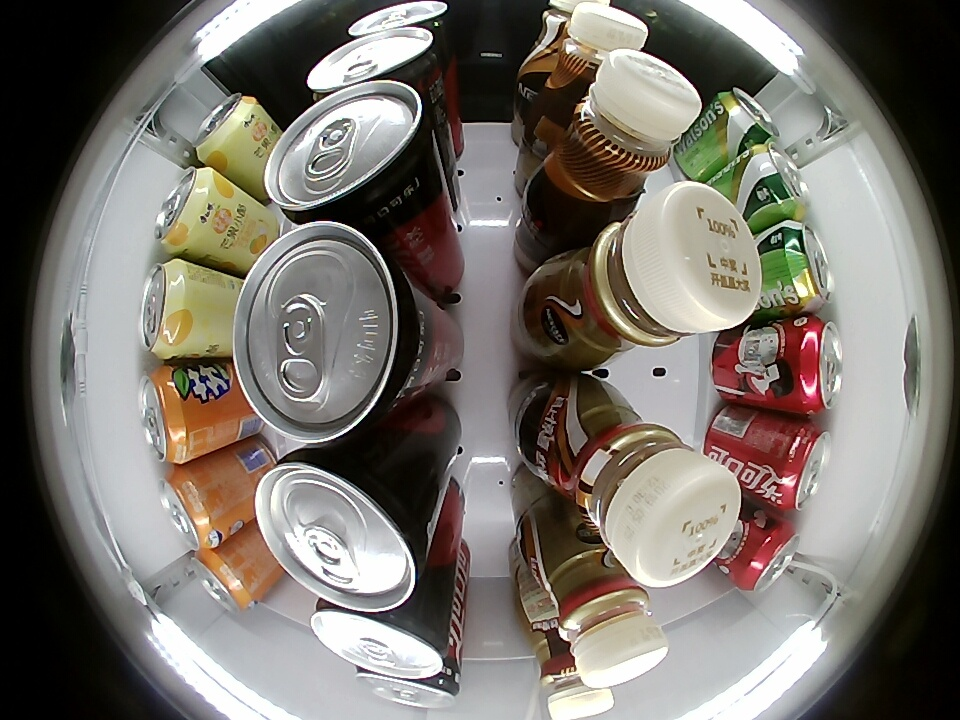fenda: (137, 366, 197, 464), (158, 469, 221, 551), (191, 548, 257, 611)
kafei: (545, 182, 761, 370), (541, 390, 743, 587), (537, 48, 703, 221), (543, 547, 670, 688), (550, 1, 649, 110), (521, 0, 609, 78), (535, 641, 614, 720)
kele: (772, 420, 831, 512), (788, 317, 843, 415), (738, 515, 801, 593)
lingdukele: (233, 219, 426, 444), (255, 448, 428, 613), (265, 79, 440, 229), (311, 595, 453, 678), (306, 27, 445, 100), (357, 663, 461, 707), (348, 2, 450, 42)
mangguoxiaolao: (153, 166, 221, 254), (138, 260, 199, 358), (192, 92, 264, 167)
quchenshixiangcao: (778, 221, 834, 316), (751, 144, 811, 221), (717, 86, 780, 143)
